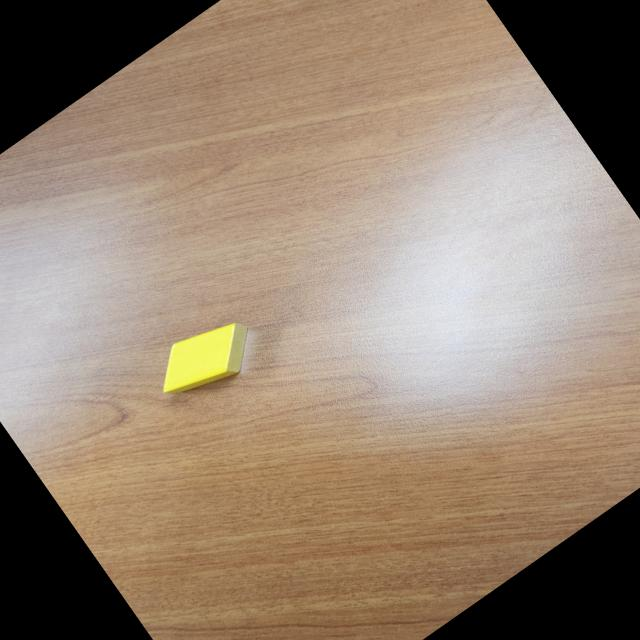yellow: (144, 302, 266, 412)
